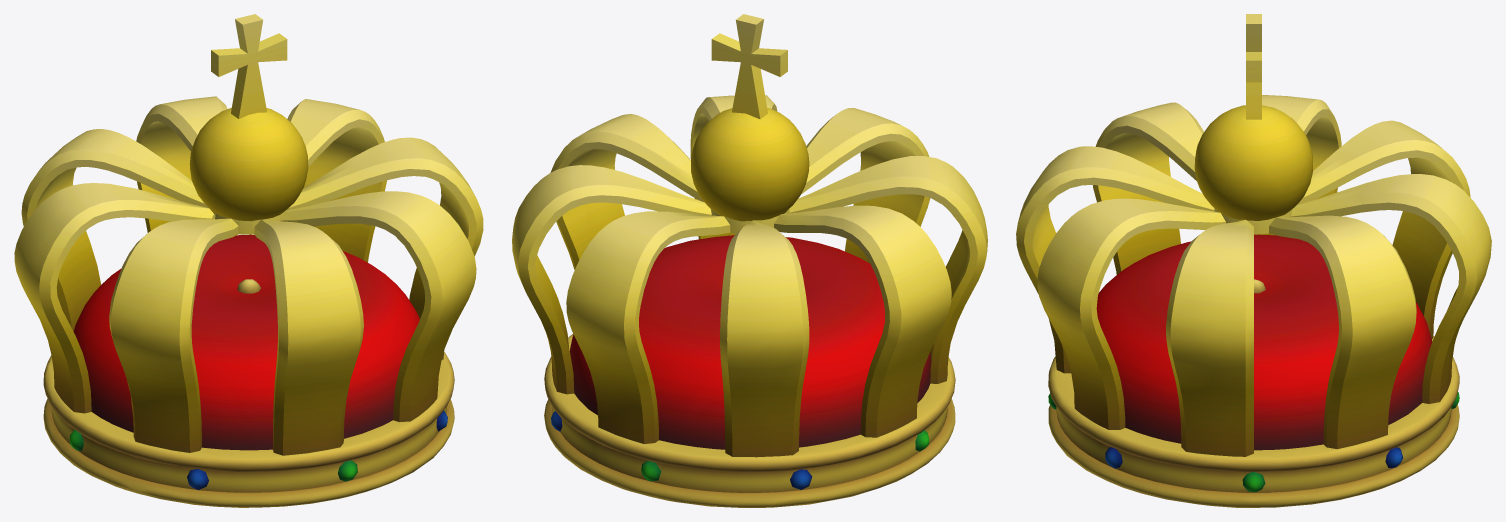
File: crown.fbx
The picture shows the model from 3 angles, left to right: view 1: azimuth 30°, elevation 25°; view 2: azimuth 150°, elevation 25°; view 3: azimuth 270°, elevation 25°; orthographic projection.
Visible parts, largest first — view 1: node_id30; view 2: node_id30; view 3: node_id30.
Boxes of the visible parts, x1,y1,x2,y2 form: node_id30: (14, 14, 483, 507); node_id30: (512, 14, 987, 507); node_id30: (1016, 14, 1491, 507).
Bounding box in the file's own units: 0.512 × 0.4804 × 0.5121.
1 material, 1 textured.
